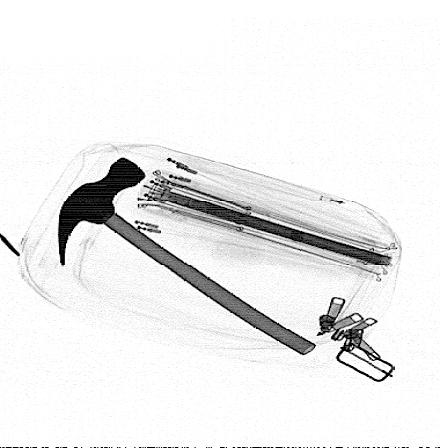Hammer: (56, 156, 317, 356)
